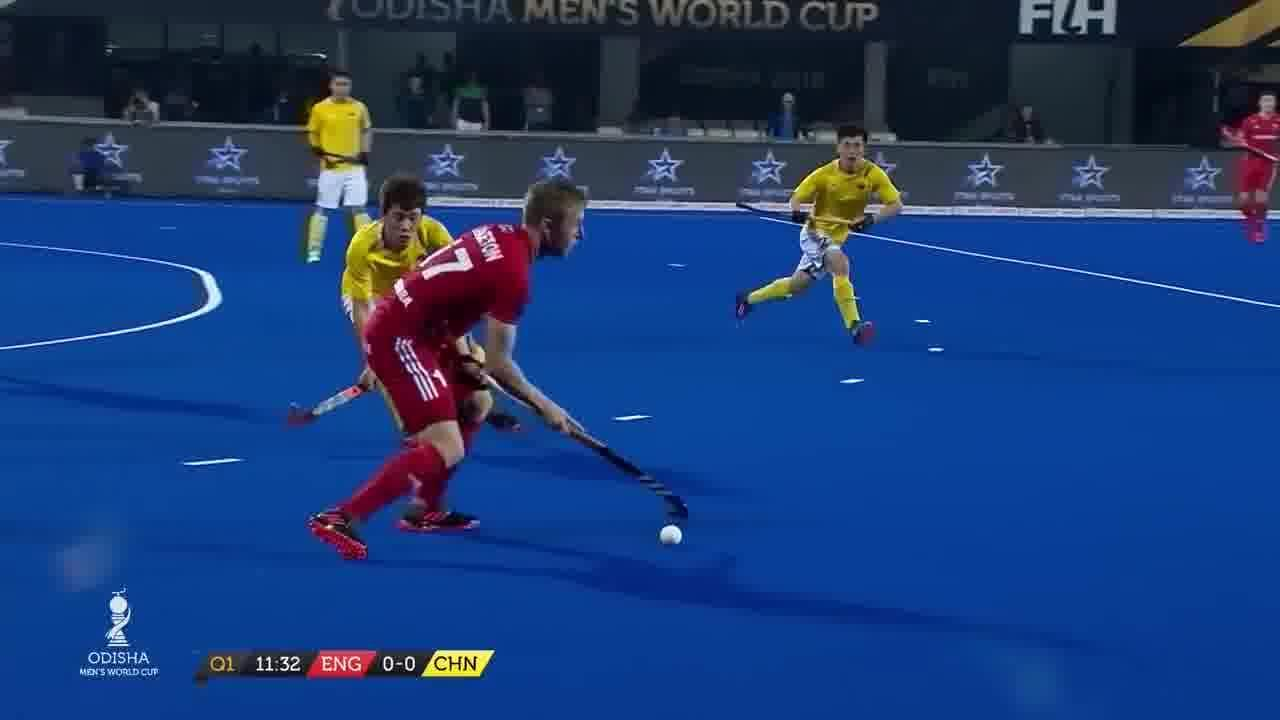ball: (650, 494, 700, 569)
